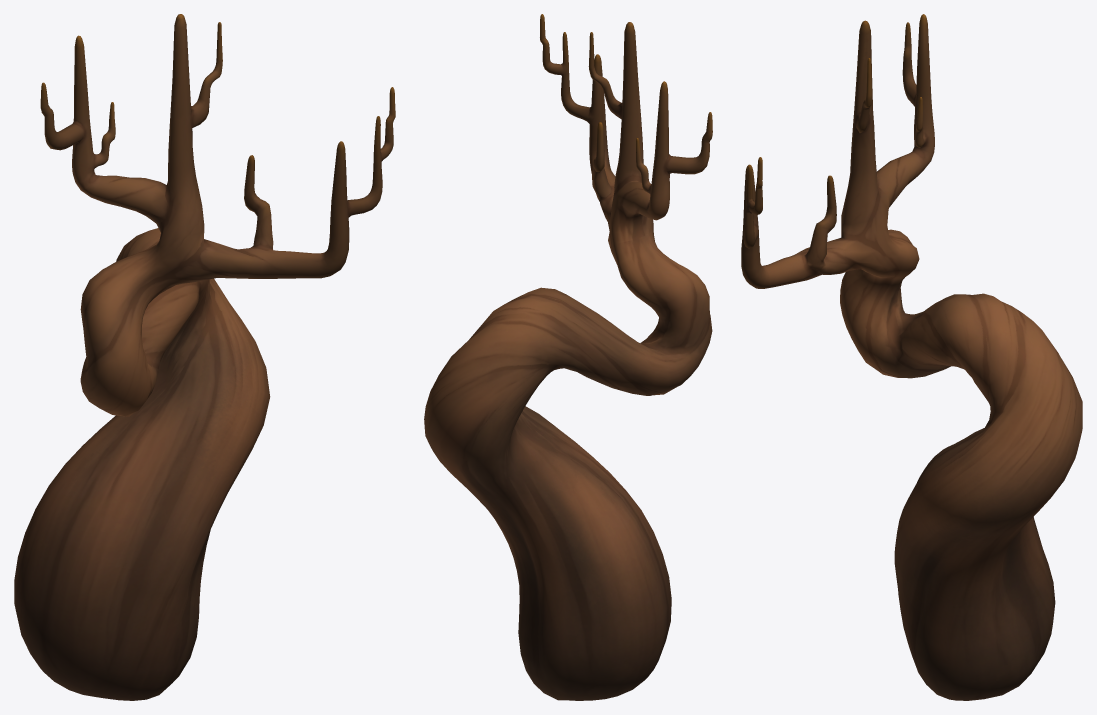
File: Tree_01.fbx
3 renders of one model, left to right at view 1: azimuth 30°, elevation 25°; view 2: azimuth 150°, elevation 25°; view 3: azimuth 270°, elevation 25°, orthographic. The views are drawn at different scales.
Parts seen in each view (by area): view 1: Tree_LP_ZBrushPolyMesh3D1; view 2: Tree_LP_ZBrushPolyMesh3D1; view 3: Tree_LP_ZBrushPolyMesh3D1.
Part boxes in pixels (bbox=[...]): Tree_LP_ZBrushPolyMesh3D1: bbox=[14, 14, 395, 700]; Tree_LP_ZBrushPolyMesh3D1: bbox=[424, 14, 712, 700]; Tree_LP_ZBrushPolyMesh3D1: bbox=[741, 14, 1082, 700].
Bounding box in the file's own units: 1013 × 2539 × 1167.
